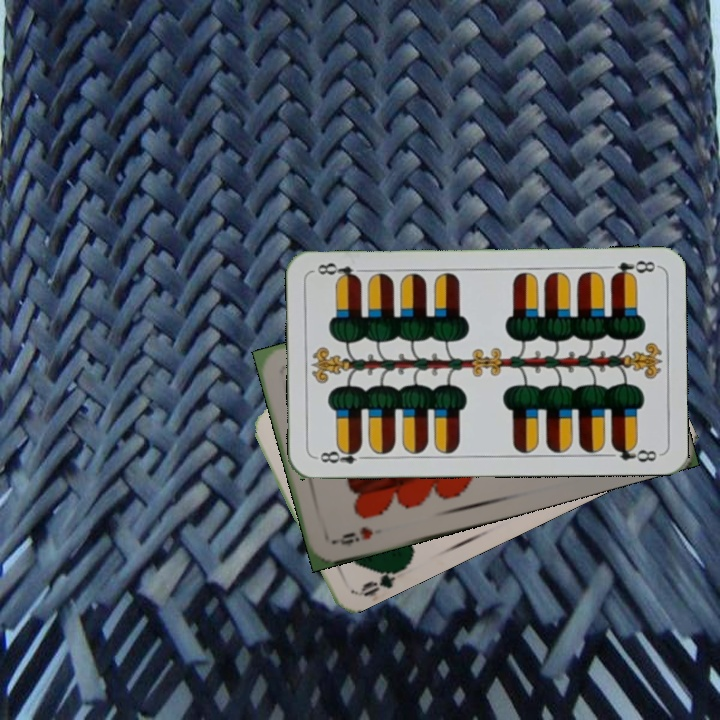E8: (313, 443, 372, 466), (607, 257, 658, 281)
GO: (356, 561, 410, 599)
H9: (330, 523, 376, 548)
